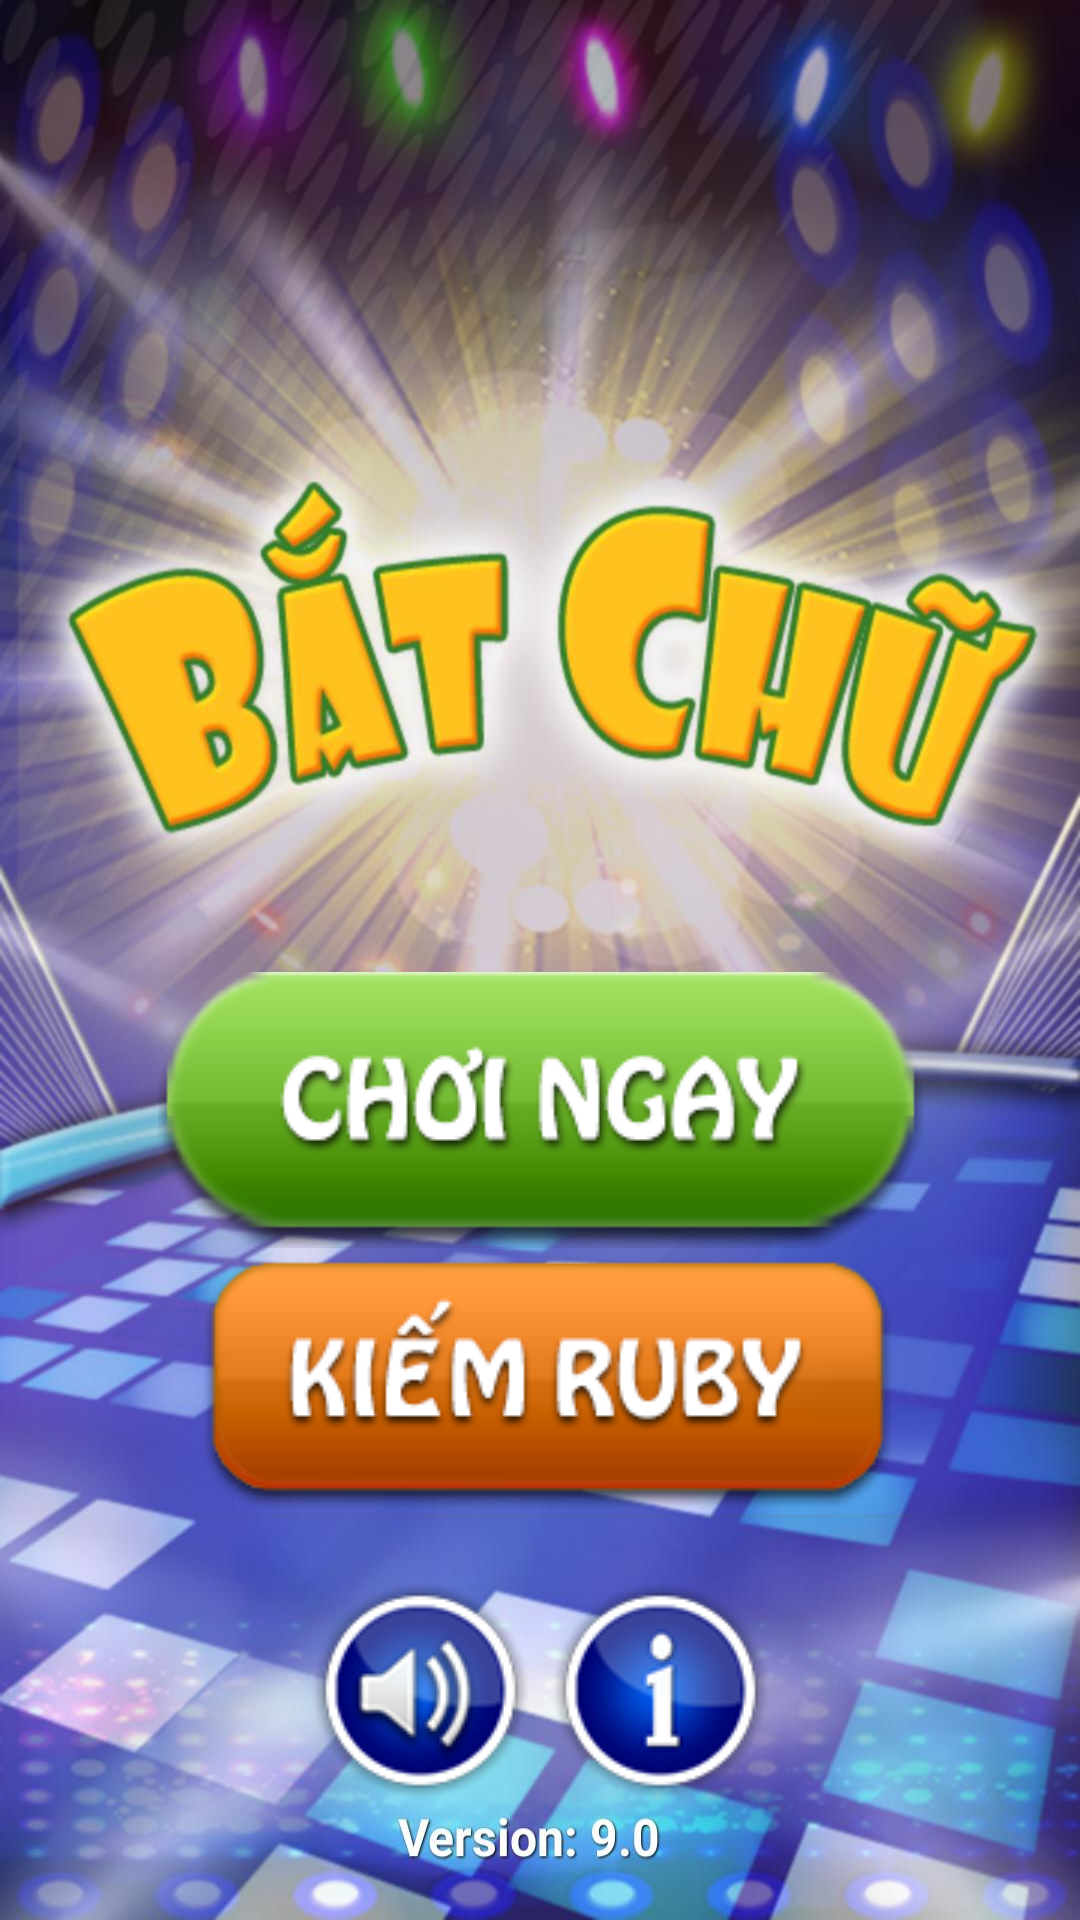

Screen size 1080px×1920px. Icon name, then its center in pixels as [x,y]:
info menu: [660,1690]
sound on menu: [420,1690]
